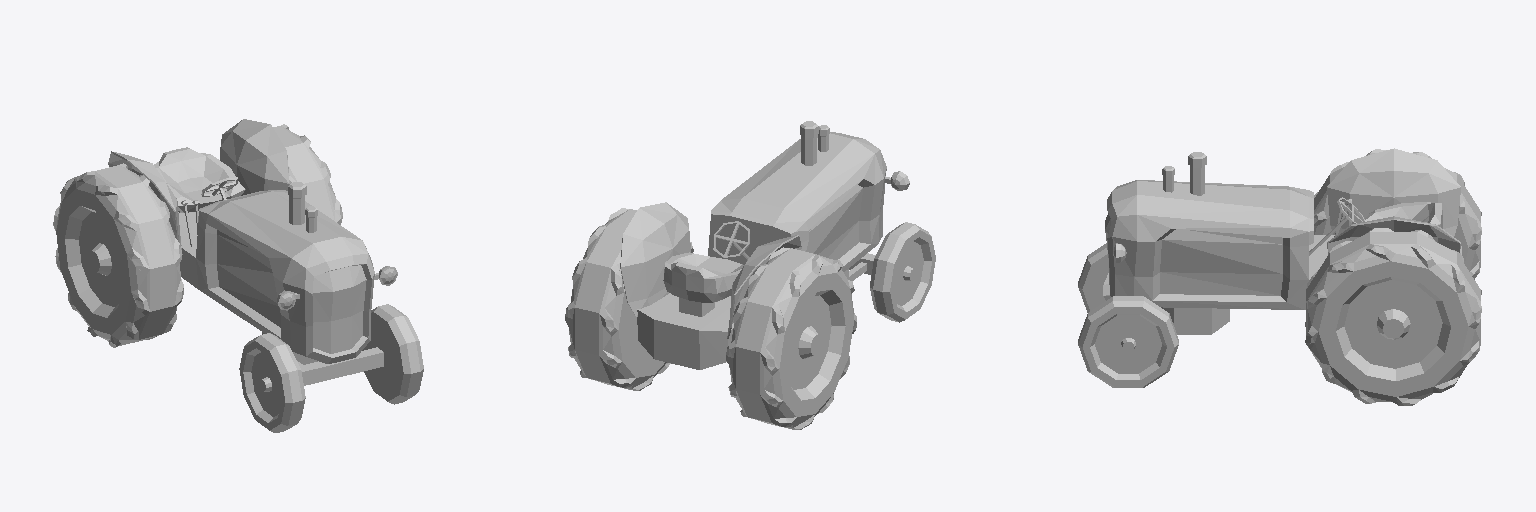
Rendered from Tractor.obj.
3 views of the same model, side by side, from view 1: azimuth 30°, elevation 25°; view 2: azimuth 150°, elevation 25°; view 3: azimuth 270°, elevation 25° (orthographic).
Visible parts, largest first — view 1: Tractor; view 2: Tractor; view 3: Tractor.
Part boxes in pixels (bbox=[...]): Tractor: bbox=[53, 119, 423, 432]; Tractor: bbox=[565, 121, 935, 429]; Tractor: bbox=[1078, 148, 1481, 405].
Bounding box in the file's own units: 0.9353 × 0.8616 × 1.55.